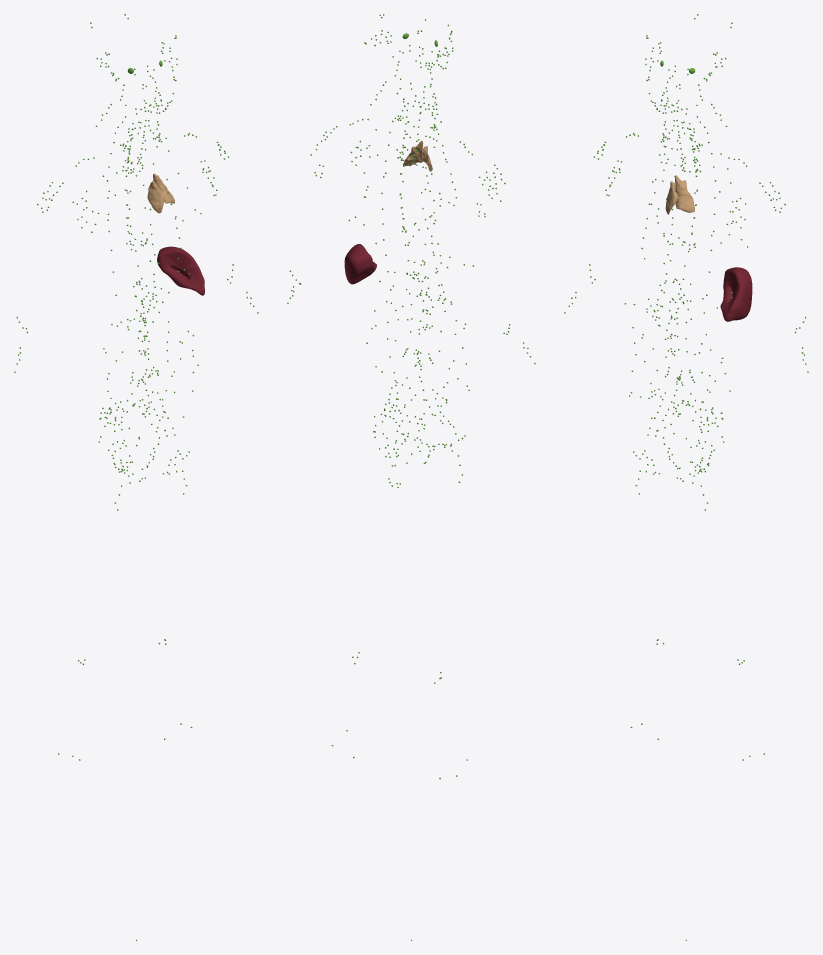
File: lymph.glb
3 renders of one model, left to right at view 1: azimuth 30°, elevation 25°; view 2: azimuth 150°, elevation 25°; view 3: azimuth 330°, elevation 25°, orthographic.
Parts seen in each view (by area): view 1: Spleen; view 2: Spleen; view 3: Spleen.
Boxes of the visible parts, x1,y1,x2,y2 form: Spleen: (157,246,204,295); Spleen: (344,244,376,284); Spleen: (720,267,752,321).
Bounding box in the file's own units: 0.4523 × 1.59 × 0.1963.
